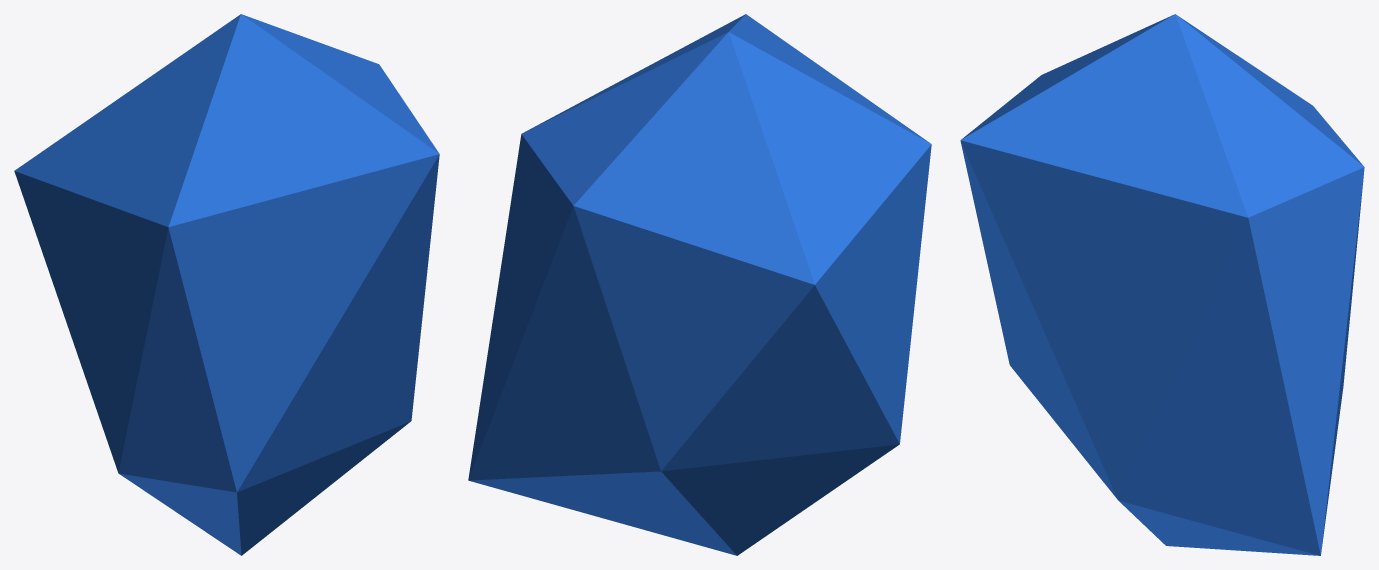
File: Sapphire.fbx
The picture shows the model from 3 angles, left to right: view 1: azimuth 30°, elevation 25°; view 2: azimuth 150°, elevation 25°; view 3: azimuth 270°, elevation 25°; orthographic projection. The views are drawn at different scales.
Visible parts, largest first — view 1: Sapphire; view 2: Sapphire; view 3: Sapphire.
Boxes of the visible parts, box(x1,y1,x2,y2) form: Sapphire: box(14, 14, 439, 555); Sapphire: box(468, 14, 931, 555); Sapphire: box(960, 14, 1364, 555).
Bounding box in the file's own units: 7.32 × 10.74 × 7.37.
1 material, 1 textured.
